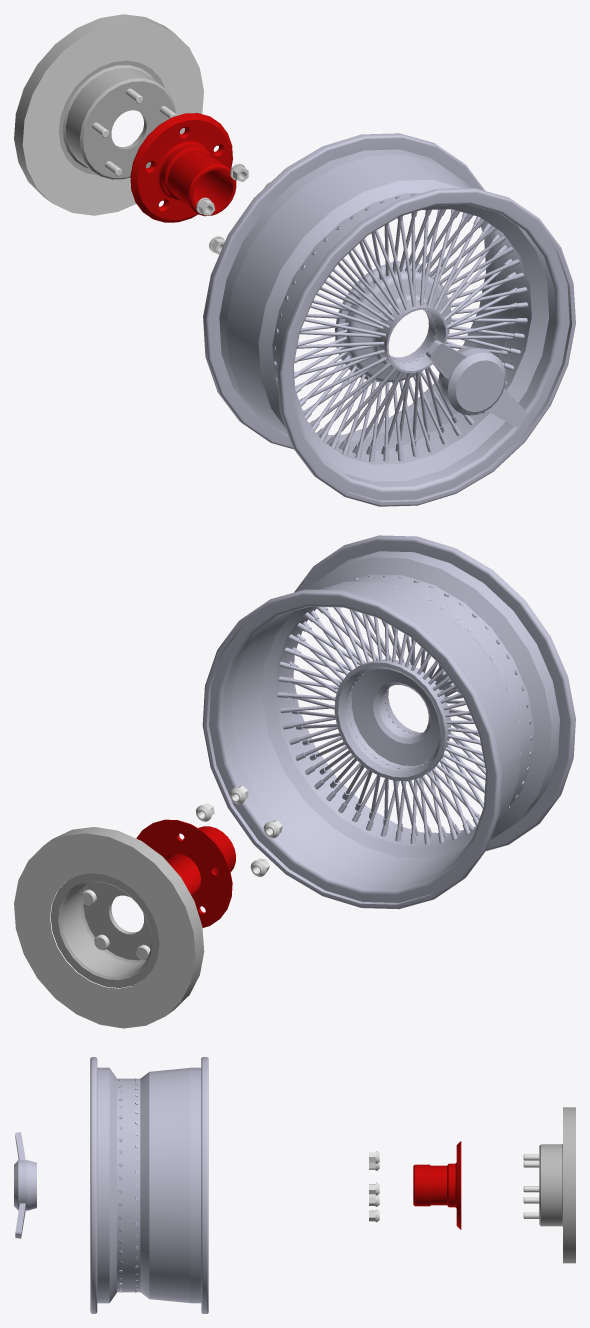
Rendered from ruota_raggi.glb.
The picture shows the model from 3 angles, top to bottom: view 1: azimuth 30°, elevation 25°; view 2: azimuth 150°, elevation 25°; view 3: azimuth 270°, elevation 25°; orthographic projection. The views are drawn at different scales.
Parts seen in each view (by area): view 1: Material2 (×8); view 2: Material2 (×5), Material3; view 3: Material2 (×4).
Boxes of the visible parts, box(x1,y1,x2,y2) form: Material2 (×8): box(14, 14, 575, 506); Material2 (×5): box(45, 535, 575, 1014); Material3: box(14, 833, 195, 1028); Material2 (×4): box(14, 1057, 575, 1313).
Bounding box in the file's own units: 0.2918 × 0.2918 × 0.64.
